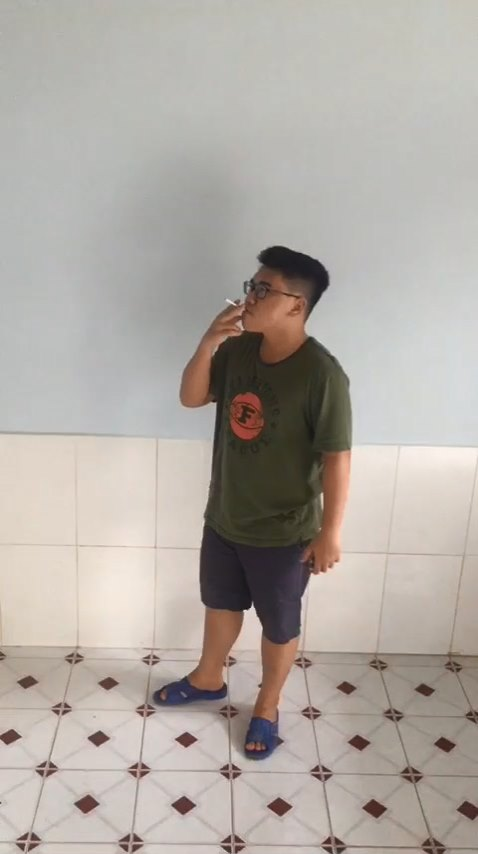cigarette: (227, 294, 244, 311)
person: (144, 230, 357, 769)
